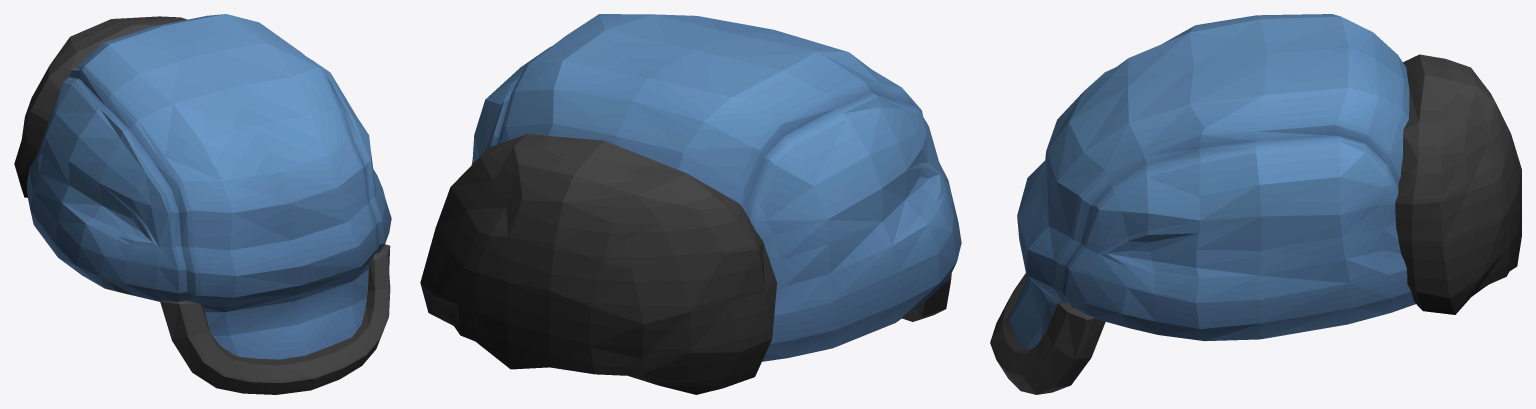
Rendered from CharSkyKid_Hat_AP31BlueFur.glb.
3 views of the same model, side by side, from view 1: azimuth 30°, elevation 25°; view 2: azimuth 150°, elevation 25°; view 3: azimuth 270°, elevation 25° (orthographic). The views are drawn at different scales.
Parts seen in each view (by area): view 1: CharSkyKid_Hat_AP31BlueFur; view 2: CharSkyKid_Hat_AP31BlueFur; view 3: CharSkyKid_Hat_AP31BlueFur.
Part boxes in pixels (x1=…): CharSkyKid_Hat_AP31BlueFur: x1=14, y1=14, x2=391, y2=394; CharSkyKid_Hat_AP31BlueFur: x1=420, y1=14, x2=961, y2=394; CharSkyKid_Hat_AP31BlueFur: x1=990, y1=14, x2=1521, y2=394.
Bounding box in the file's own units: 3.53 × 2.92 × 4.48.
Materials: 1 (1 with a texture image).
